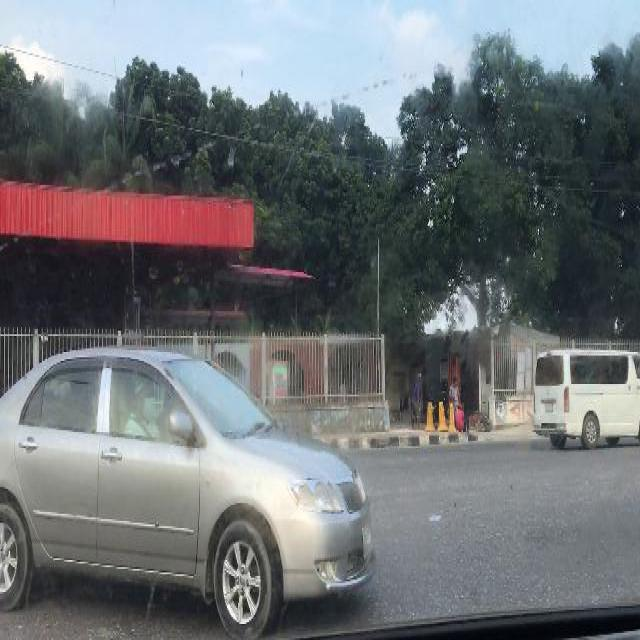car: (2, 343, 380, 638)
van: (530, 345, 640, 455)
